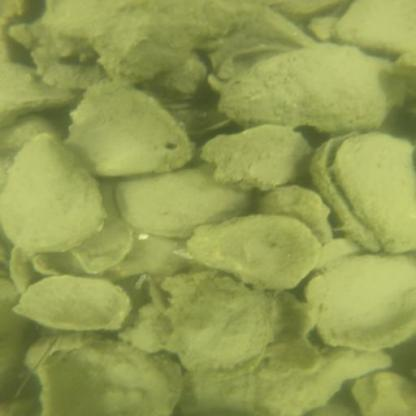3: (309, 129, 416, 256), (104, 166, 251, 241)
Oyster-Closed: (89, 0, 261, 82), (0, 133, 105, 256), (306, 253, 416, 350), (165, 280, 265, 369), (6, 271, 136, 333), (69, 229, 136, 276)
Oyster-Open: (177, 347, 396, 416), (219, 44, 383, 130), (64, 76, 198, 176), (188, 215, 321, 292), (0, 63, 76, 130), (329, 0, 416, 55), (261, 182, 335, 246)
